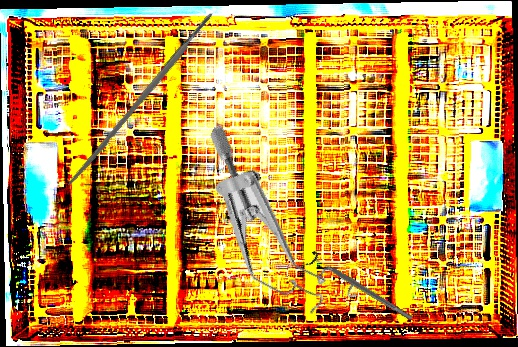Fixation Ring: (304, 249, 417, 327)
Scalpel Handle: (65, 10, 217, 189)
Speculum: (156, 122, 398, 332)
